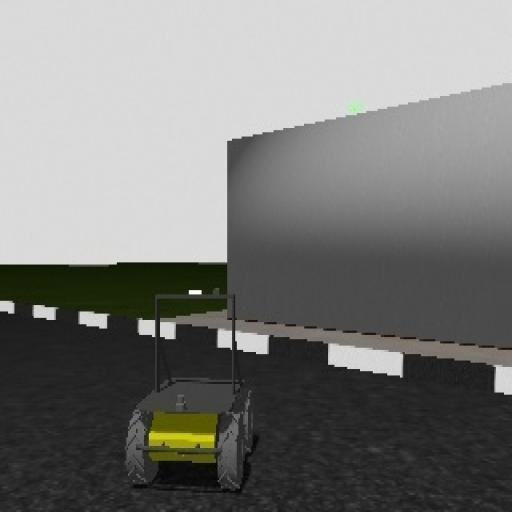huskya200: (121, 284, 264, 495)
